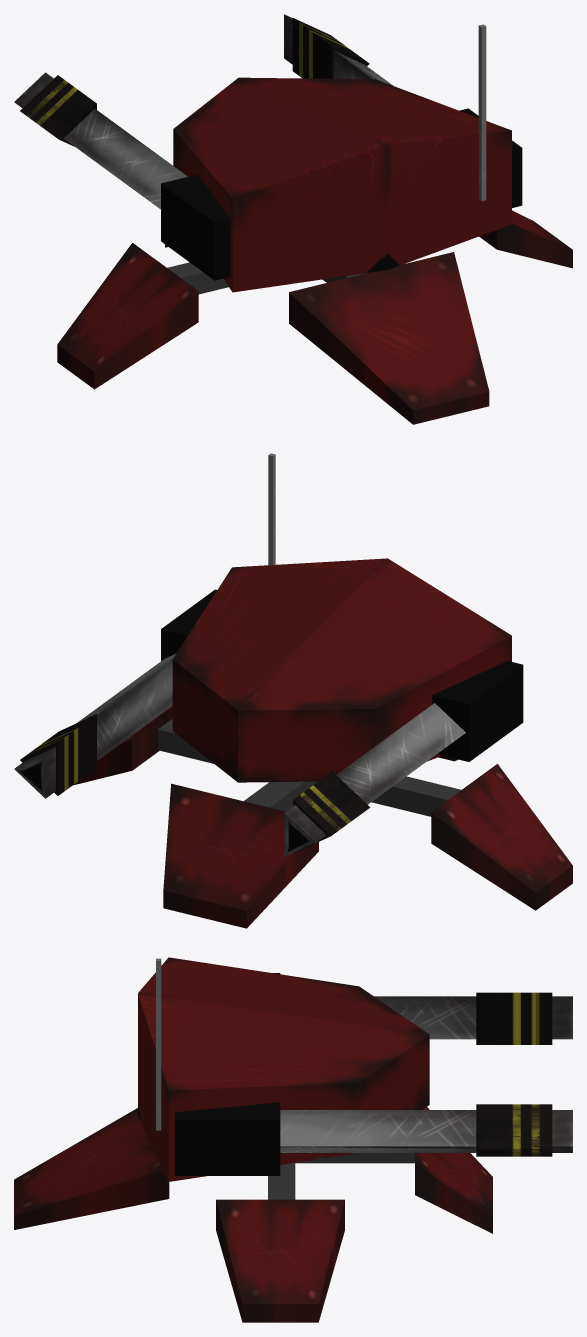
File: TDTowerMortar2.fbx
The picture shows the model from 3 angles, top to bottom: view 1: azimuth 30°, elevation 25°; view 2: azimuth 150°, elevation 25°; view 3: azimuth 270°, elevation 25°; orthographic projection. The views are drawn at different scales.
Visible parts, largest first — view 1: pCube169, polySurface422; view 2: pCube169, polySurface422; view 3: pCube169, polySurface422.
Part boxes in pixels (left/top/right/bottom): pCube169: left=14, top=14, right=522, bottom=292; polySurface422: left=57, top=210, right=572, bottom=424; pCube169: left=14, top=453, right=523, bottom=856; polySurface422: left=73, top=706, right=572, bottom=928; pCube169: left=138, top=957, right=572, bottom=1181; polySurface422: left=14, top=1107, right=492, bottom=1322.
Bounding box in the file's own units: 23.67 × 14.76 × 24.58.
